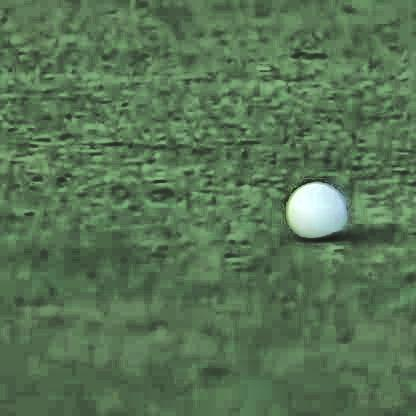golfball: (285, 178, 342, 235)
